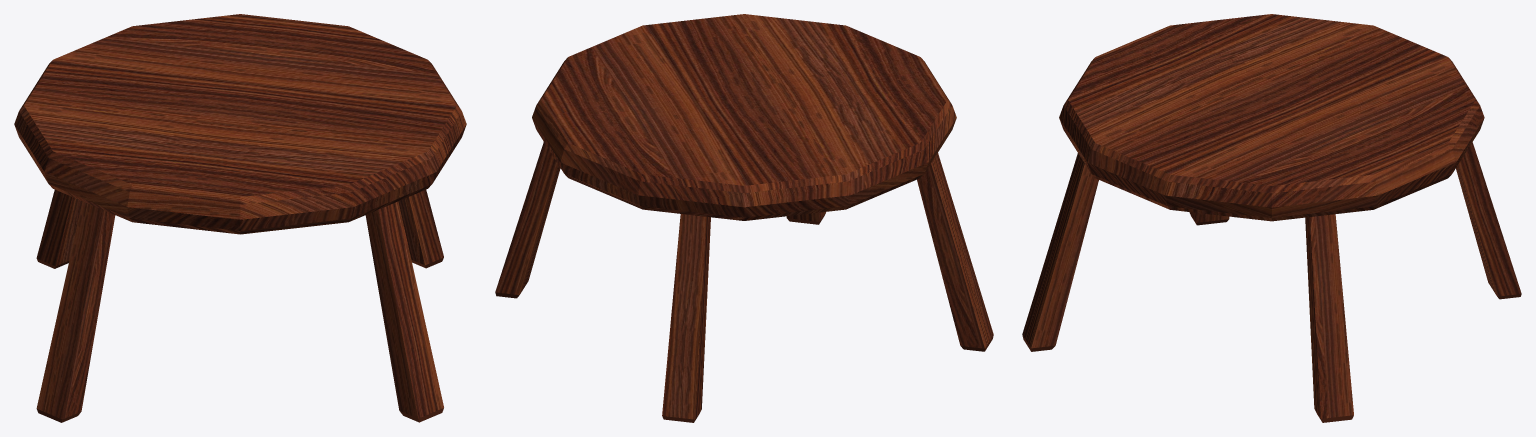
Rendered from Mesa_de_centro_2.fbx.
3 renders of one model, left to right at view 1: azimuth 30°, elevation 25°; view 2: azimuth 150°, elevation 25°; view 3: azimuth 270°, elevation 25°, orthographic. The views are drawn at different scales.
Visible parts, largest first — view 1: Circle.040; view 2: Circle.040; view 3: Circle.040.
Part boxes in pixels (<box>): Circle.040: <box>14,14,466,422</box>; Circle.040: <box>495,14,993,422</box>; Circle.040: <box>1022,14,1521,422</box>.
Bounding box in the file's own units: 245 × 119 × 245.
